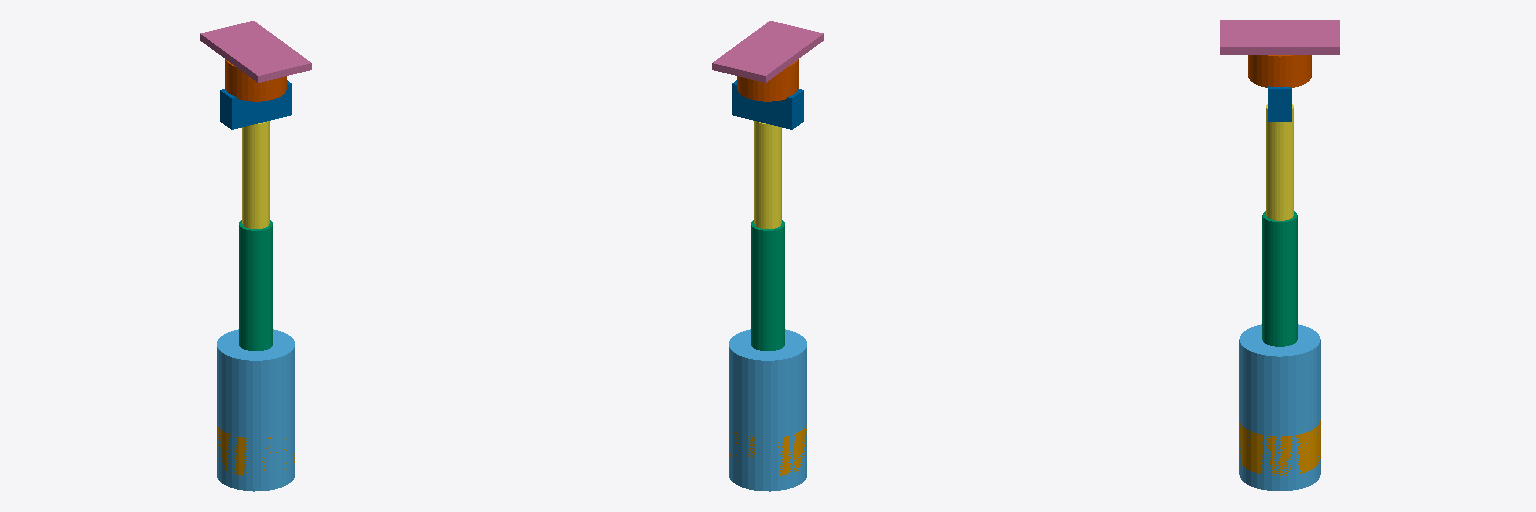
URDF robot description (robot_arm):
<robot name="robot_arm">
    <link name="base_link">
       <visual>
           <origin xyz="0 0 0.0273625" rpy="0 0 0"/>
           <geometry>
               <cylinder length="0.054725" radius="0.05080"/>
           </geometry>
       </visual>	
   </link>

   <link name="base_rot">
       <visual>
             <geometry>
              <cylinder length="0.186275" radius="0.05080"/>
           </geometry>
       </visual>	
   </link>
   
   <joint name="base_joint" type="revolute">
     <parent link="base_link"/>
     <child link="base_rot"/>
     <origin xyz="0 0 0.072" rpy="0 0 0" />
     <axis xyz="0 0 -1"/>
   </joint>
   
   <link name="arm1">
       <visual>
         <origin xyz="0 0 0.119" rpy="0 0 0" />
             <geometry>
               <cylinder length="0.238" radius="0.022"/>
           </geometry>
       </visual>	
   </link>
   <joint name="shoulder_joint" type="revolute">
     <parent link="base_rot"/>
     <child link="arm1"/>
     <origin xyz="0 0 0.027" rpy="0 0 0" />
     <axis xyz="1 0 0"/>
     <limit lower="-1.57" upper="1.57" />
   </joint>
   
   <link name="arm2">
       <visual>
         <origin xyz="0 0 0.075" rpy="0 0 0" />
             <geometry>
               <cylinder length="0.150" radius="0.0175"/>
           </geometry>
       </visual>	
   </link>
   
   <link name="tilt">
       <visual>
         <origin xyz="0 0 0.0225" rpy="0 0 0" />
             <geometry>
               <box size="0.09 0.03 0.045" />
           </geometry>
       </visual>	
   </link>
   
   <link name="top">
       <visual>
         <origin xyz="0 0 0.02" rpy="0 0 0" />
             <geometry>
               <cylinder length="0.045" radius="0.04"/>
           </geometry>
       </visual>	
   </link>
   
   <link name="camera">
       <visual>
         <origin xyz="0 0 0.005" rpy="0 0 0" />
             <geometry>
               <box size="0.08 0.15 0.01" />
           </geometry>
       </visual>	
   </link>
   
   <joint name="elbow_joint" type="revolute">
     <parent link="arm1"/>
     <child link="arm2"/>
     <origin xyz="0 0 0.238" rpy="0 0 0" />
     <axis xyz="1 0 0"/>
       <limit lower="-1.92" upper="1.92" />
   </joint>
   
   <joint name="rot_joint" type="revolute">
     <parent link="arm2"/>
     <child link="tilt"/>
     <origin xyz="0 0 0.15" rpy="0 0 0" />
     <axis xyz="0 0 -1"/>
     <limit lower="-1.57" upper="2.8" />       
   </joint>
   
   <joint name="tilt_joint" type="revolute">
     <parent link="tilt"/>
     <child link="top"/>
     <origin xyz="0 0 0.045" rpy="0 0 0" />
     <axis xyz="-1 0 0"/>
     <limit lower="-1.78" upper="0.48" />       
   </joint>
   
   <joint name="rot2_joint" type="revolute">
     <parent link="top"/>
     <child link="camera"/>
     <origin xyz="0 0 0.045" rpy="0 0 0" />
     <axis xyz="0 0 1"/>
     <limit lower="-2.88" upper="2.1" />
   </joint>
   
</robot>

--- Render facts (derived) ---
Views: 3 orthographic renders of the robot side by side, from view 1: azimuth 30°, elevation 25°; view 2: azimuth 150°, elevation 25°; view 3: azimuth 270°, elevation 25°.
Robot: robot_arm — 7 links, 6 joints (6 revolute); root link base_link; default pose: all joints at 0.
Links seen in each view (by area): view 1: base_rot, arm1, camera, arm2, tilt, top, base_link; view 2: base_rot, arm1, camera, arm2, tilt, top, base_link; view 3: base_rot, arm1, camera, arm2, base_link, top, tilt.
Boxes of the visible links, box(x1,y1,x2,y2) form: base_rot: box(217, 329, 294, 491); arm1: box(239, 220, 272, 350); camera: box(200, 21, 311, 82); arm2: box(242, 121, 269, 228); tilt: box(220, 80, 291, 129); top: box(225, 59, 286, 101); base_link: box(217, 425, 294, 475); base_rot: box(729, 329, 806, 491); arm1: box(751, 220, 784, 350); camera: box(712, 21, 823, 82); arm2: box(754, 121, 781, 228); tilt: box(732, 80, 803, 129); top: box(737, 59, 798, 101); base_link: box(729, 426, 806, 475); base_rot: box(1239, 324, 1320, 490); arm1: box(1262, 211, 1297, 346); camera: box(1220, 20, 1339, 54); arm2: box(1266, 104, 1293, 220); base_link: box(1239, 420, 1320, 475); top: box(1248, 55, 1311, 87); tilt: box(1268, 86, 1291, 121).
Bounding box of the posed robot: 0.1016 × 0.15 × 0.6081 m (x, y, z).
Geometry: primitives only (box / cylinder / sphere), no mesh files.